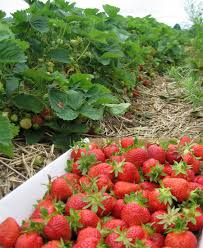Fresa: (161, 174, 194, 205), (40, 213, 74, 243), (86, 187, 117, 217), (118, 198, 147, 227), (163, 226, 201, 248), (46, 175, 76, 201), (1, 213, 23, 248), (149, 208, 179, 233), (112, 159, 142, 184), (147, 185, 174, 212), (72, 207, 105, 229), (121, 146, 150, 170), (141, 157, 165, 182), (112, 179, 142, 198), (14, 230, 45, 248), (103, 230, 131, 248), (74, 236, 102, 248)
